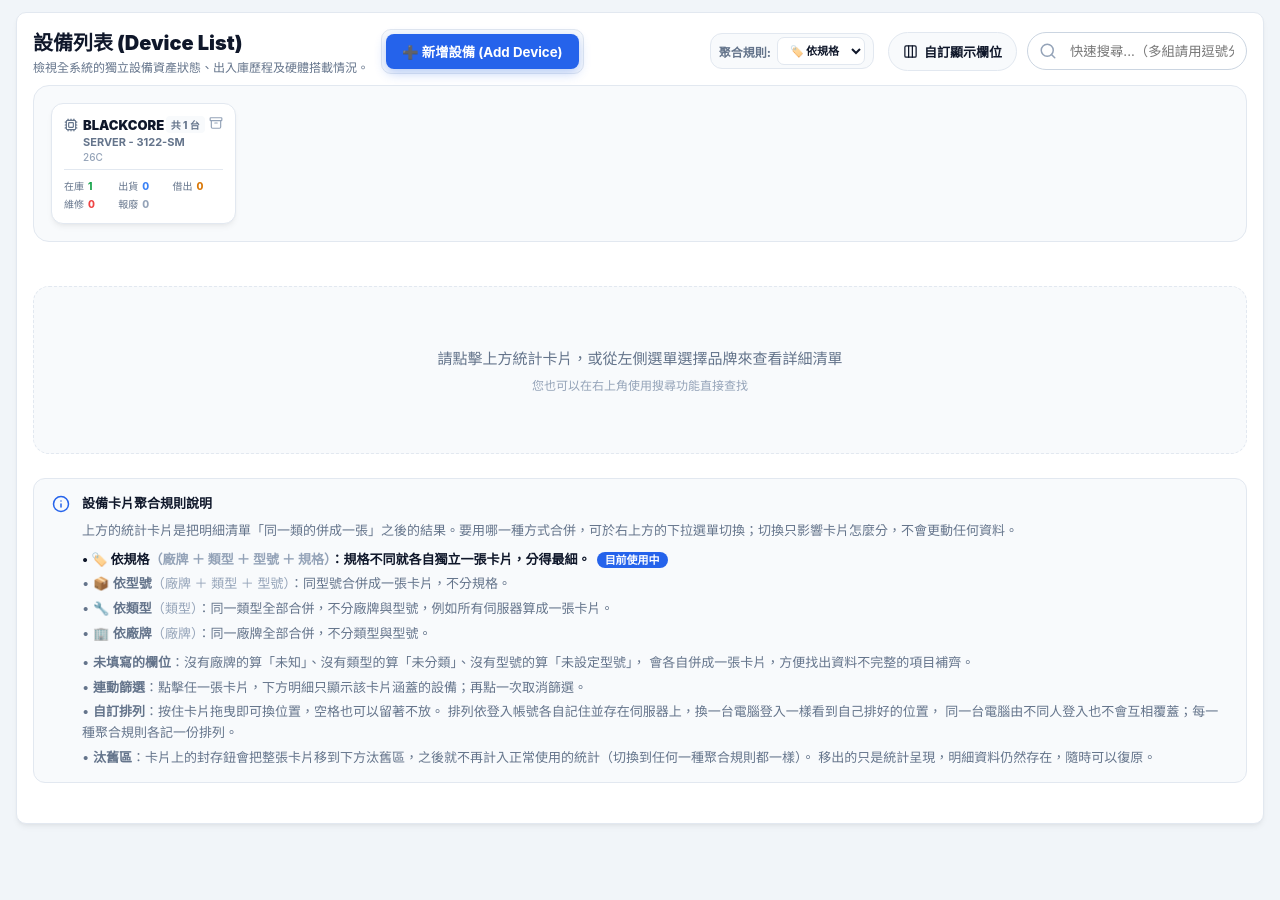
Test: 設備編輯：搭載硬體清單即時篩選 › 尚未輸入時列出全部可掛載硬體
Type "DEV-1" into the field with placeholder "快速搜尋...（多組請用逗號分隔）". click: point(1137, 51)
box: [1027,32,1247,70]
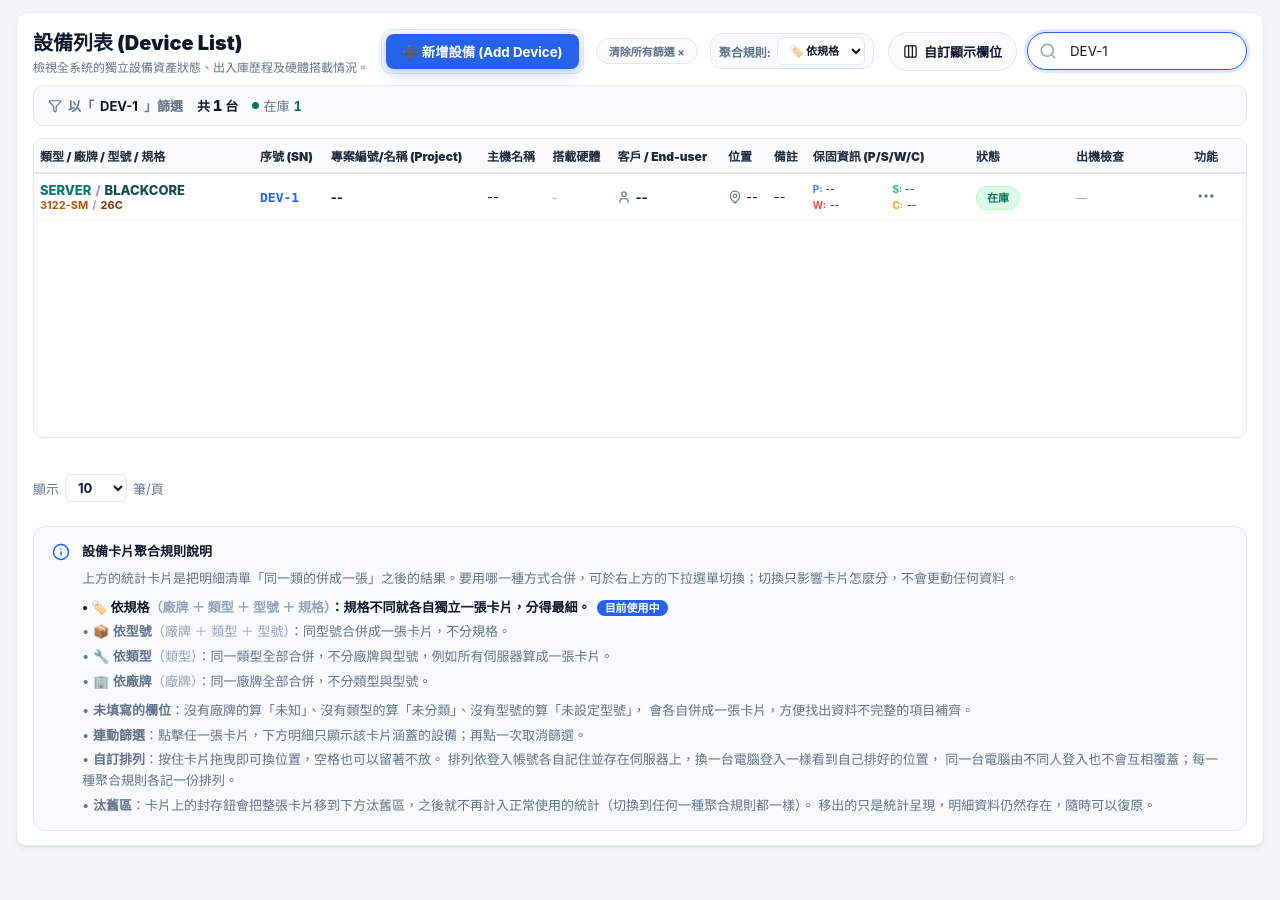
Check: the text "DEV-1" is shown, box [254,173,325,220]
Click the 4th button. click: point(1206, 197)
box: [1196,186,1216,208]
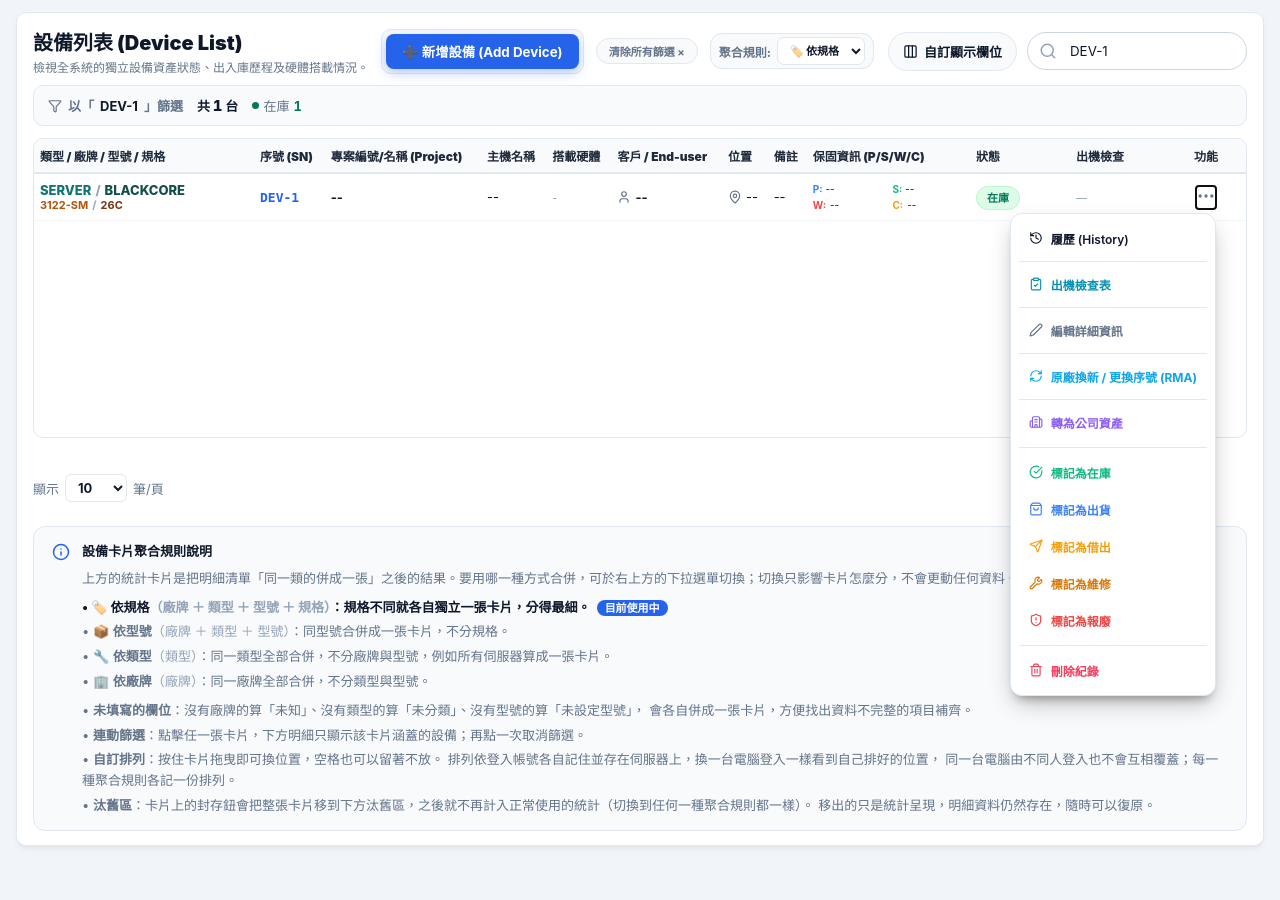
Click the button "編輯詳細資訊". click: point(1113, 330)
box: [1019,314,1207,346]
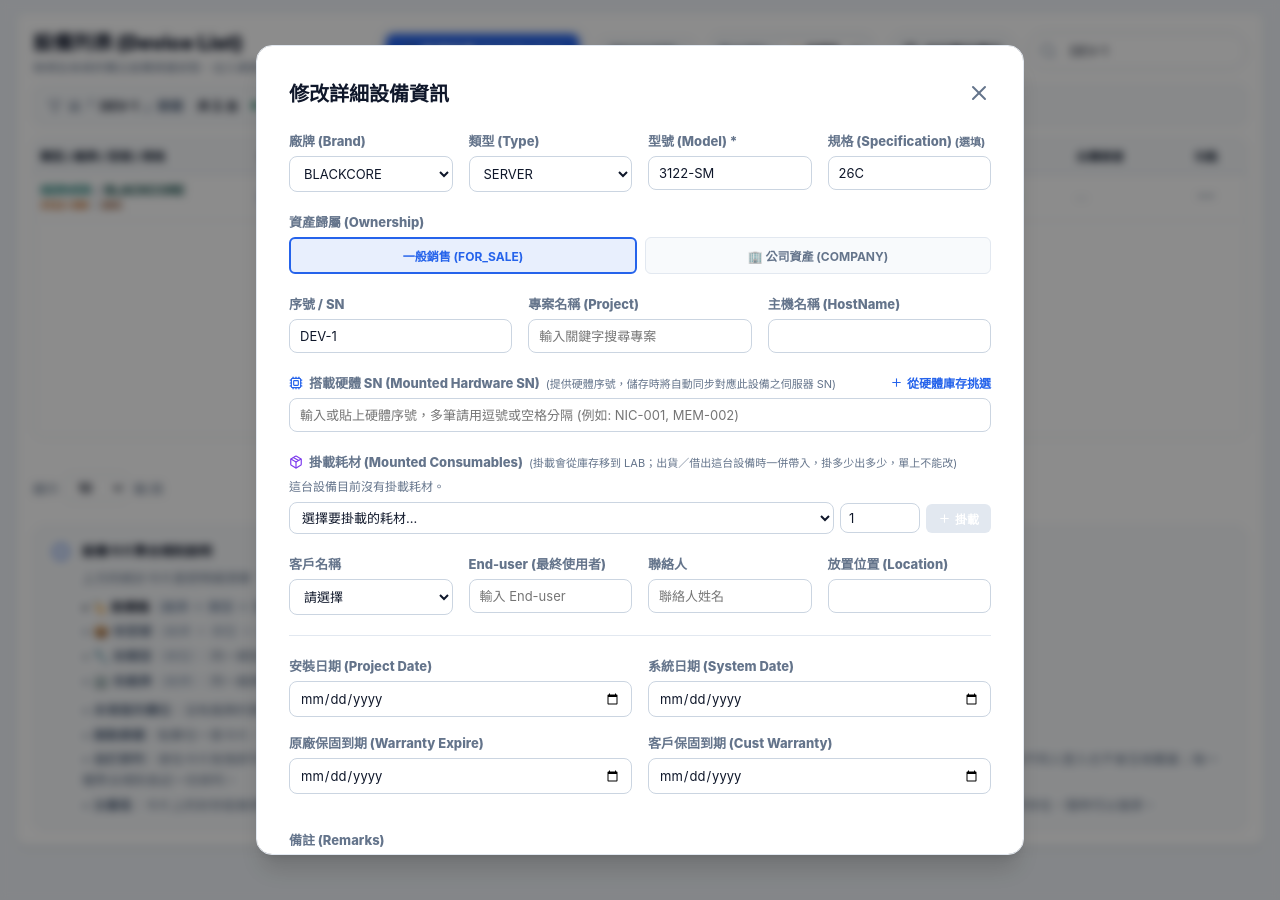
Click the field with placeholder "輸入或貼上硬體序號，多筆請用逗號或空格分隔 (例如: NIC-001, MEM-002)". click: point(640, 415)
box: [289,398,991,432]
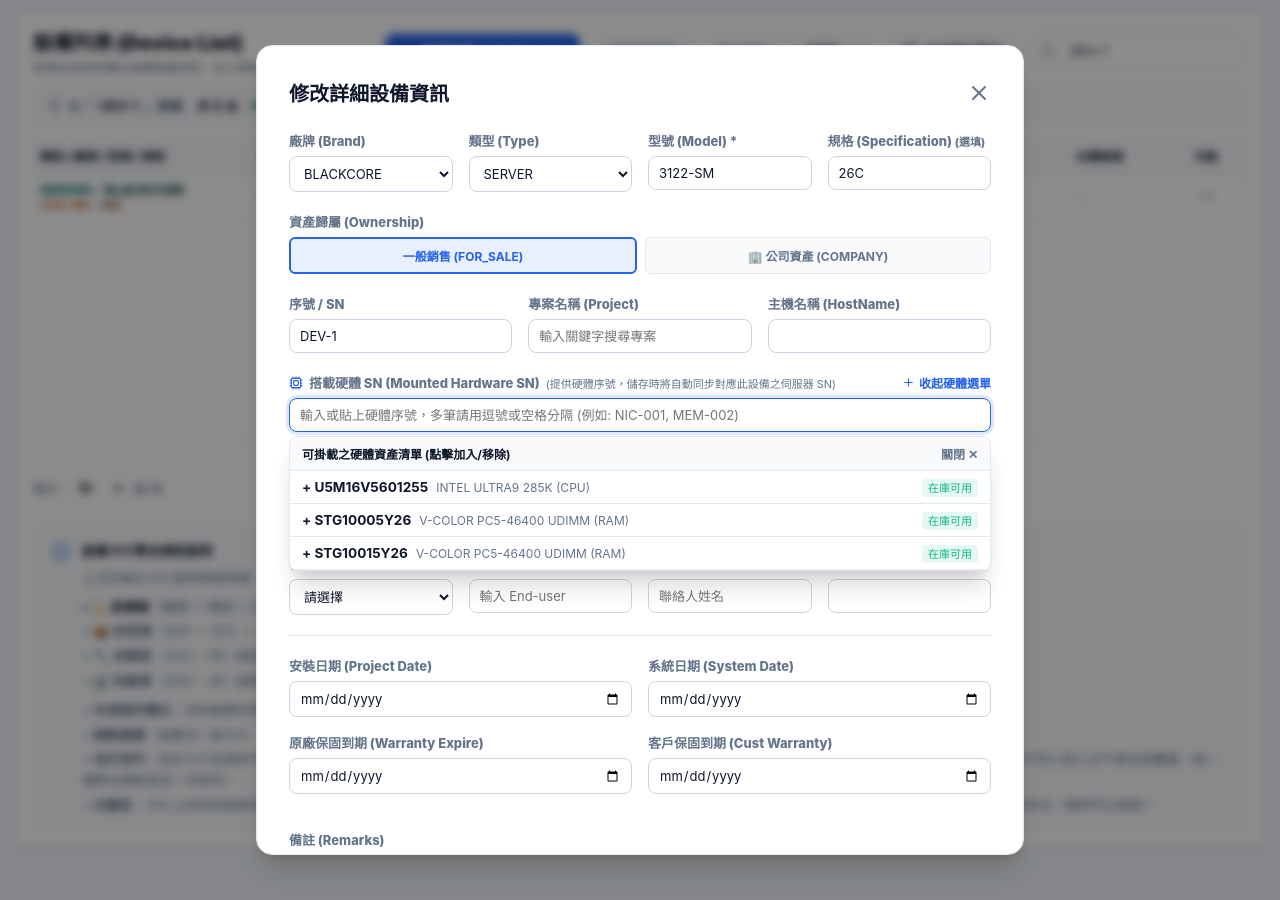
Check: the text "+ U5M16V5601255" is shown, box [302,479,428,495]
Check: the text "+ STG10005Y26" is shown, box [302,512,411,528]
Check: the text "+ STG10015Y26" is shown, box [302,545,408,561]
